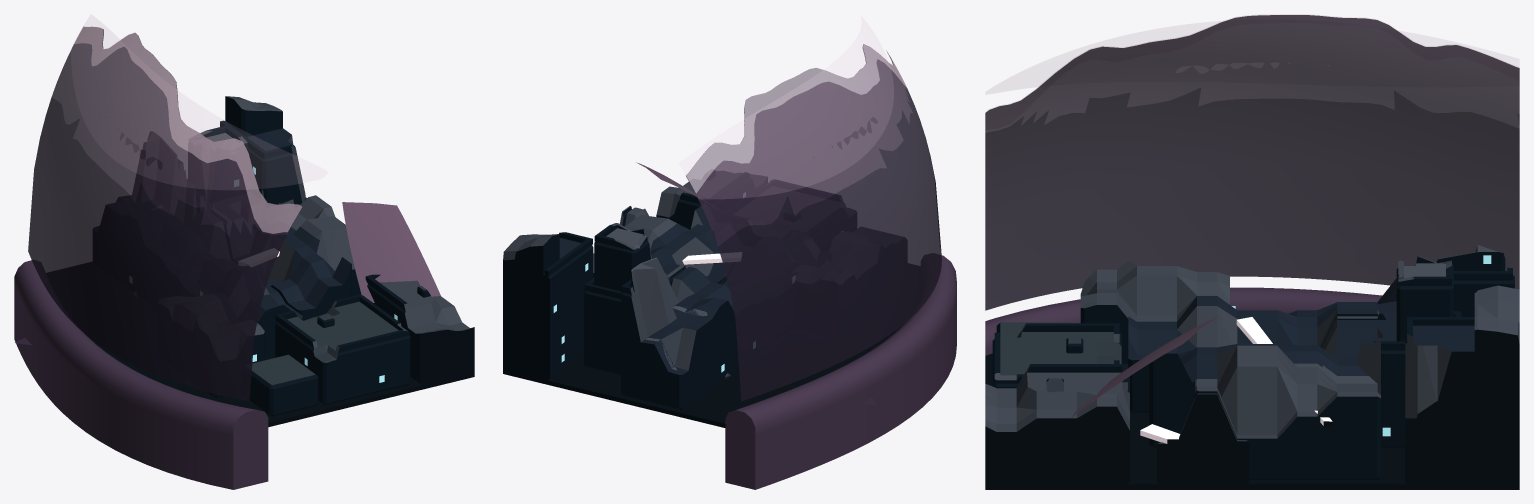
File: purple_dome_ml_wreck.glb
The picture shows the model from 3 angles, left to right: view 1: azimuth 30°, elevation 25°; view 2: azimuth 150°, elevation 25°; view 3: azimuth 270°, elevation 25°; orthographic projection. The views are drawn at different scales.
Visible parts, largest first — view 1: purple_dome_ml_wreck; view 2: purple_dome_ml_wreck; view 3: purple_dome_ml_wreck.
Part boxes in pixels (x1,y1,x2,y2): purple_dome_ml_wreck: (14,15,474,489); purple_dome_ml_wreck: (503,18,956,489); purple_dome_ml_wreck: (985,14,1519,489).
Size of the model in its own units: 24 by 24.54 by 28.
